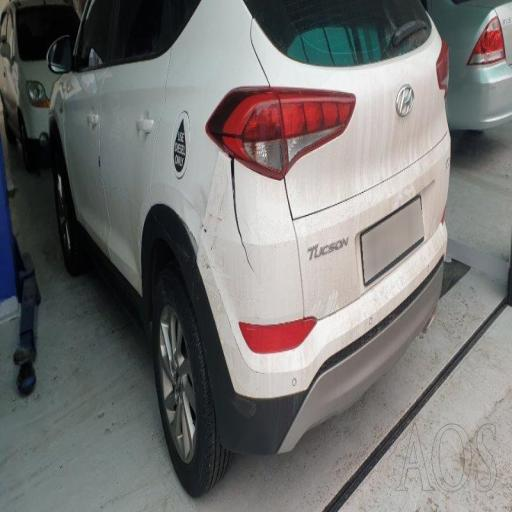scratch: (177, 52, 488, 444)
